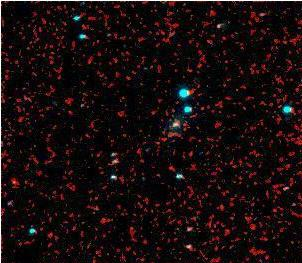star: (0, 164, 28, 194)
